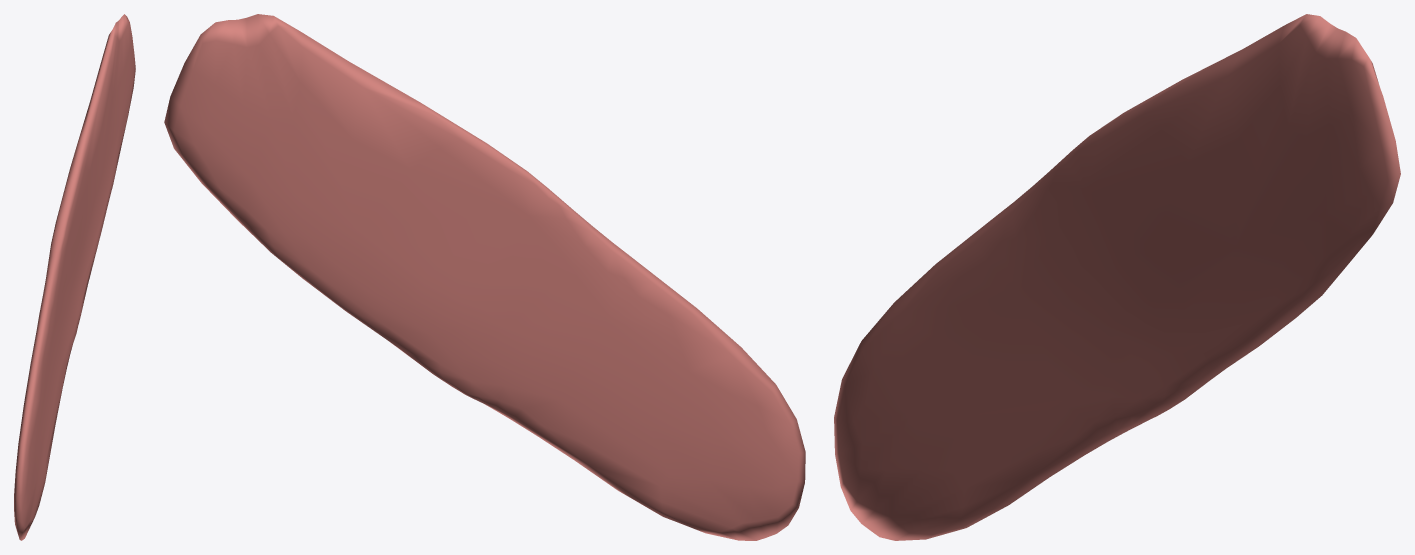
The picture shows the model from 3 angles, left to right: view 1: azimuth 30°, elevation 25°; view 2: azimuth 150°, elevation 25°; view 3: azimuth 270°, elevation 25°; orthographic projection. The views are drawn at different scales.
Parts seen in each view (by area): view 1: ZA_c86eaa0a4110ec1e; view 2: ZA_c86eaa0a4110ec1e; view 3: ZA_c86eaa0a4110ec1e.
Part boxes in pixels (bbox=[...]): ZA_c86eaa0a4110ec1e: bbox=[14, 14, 135, 540]; ZA_c86eaa0a4110ec1e: bbox=[164, 14, 805, 540]; ZA_c86eaa0a4110ec1e: bbox=[834, 14, 1400, 540].
Size of the model in its own units: 0.0123 by 0.0166 by 0.012.
